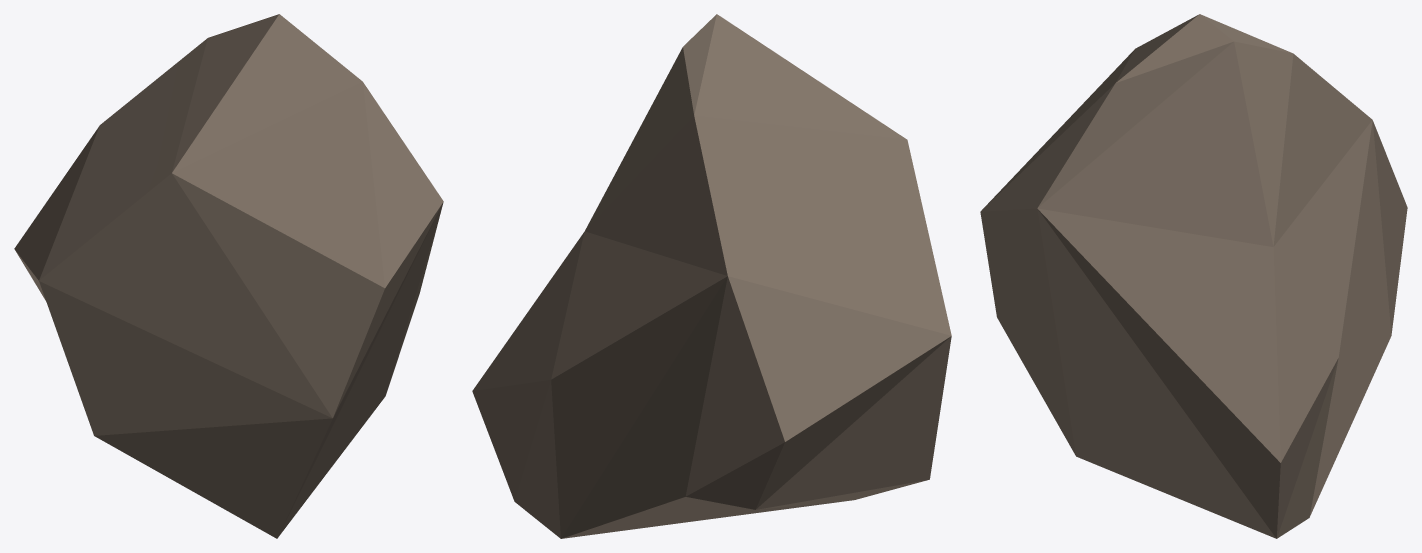
Rendered from Rock2.fbx.
3 renders of one model, left to right at view 1: azimuth 30°, elevation 25°; view 2: azimuth 150°, elevation 25°; view 3: azimuth 270°, elevation 25°, orthographic. The views are drawn at different scales.
Visible parts, largest first — view 1: stone_04; view 2: stone_04; view 3: stone_04.
Boxes of the visible parts, x1,y1,x2,y2 form: stone_04: [14, 14, 443, 538]; stone_04: [472, 14, 951, 538]; stone_04: [980, 14, 1407, 538].
Size of the model in its own units: 2.61 by 2.86 by 2.34.
